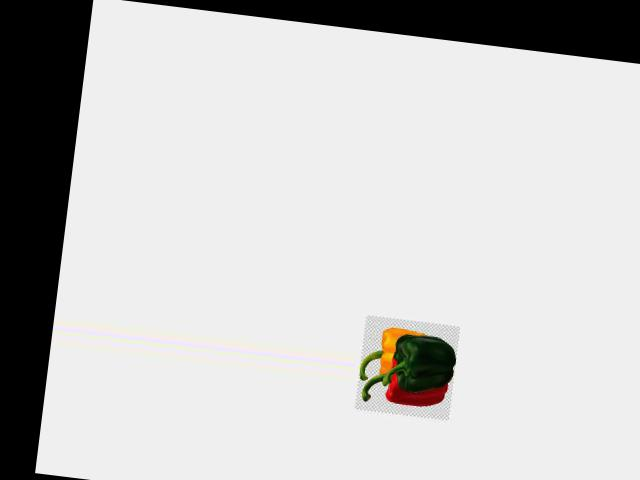bell_pepper: (357, 356, 452, 421)
